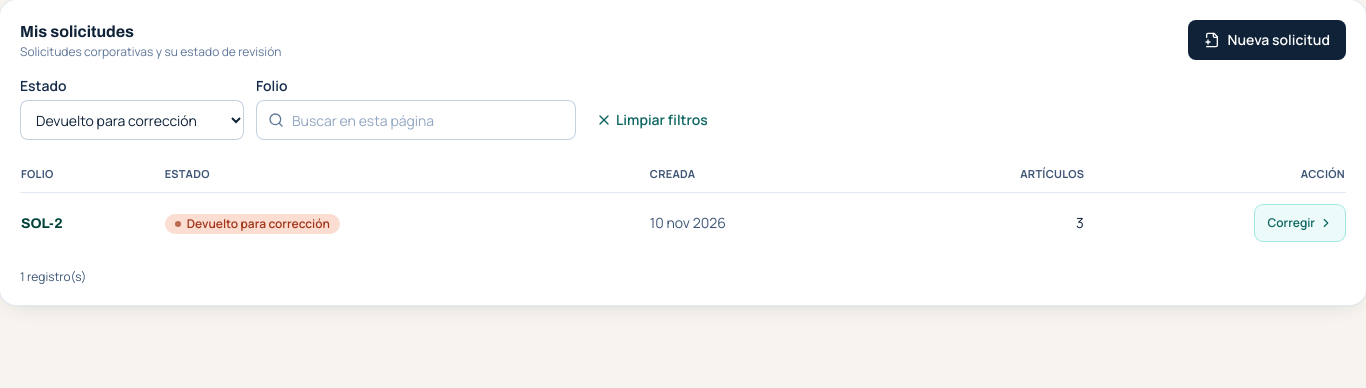
Test: listado de solicitudes › toma el estado de la URL, lo actualiza al cambiarlo y ofrece la acción según el estado
The image size is (1366, 388).
Select "Todas" in the dropdown labelled "Estado" at point(132, 120), box [20, 100, 244, 140]
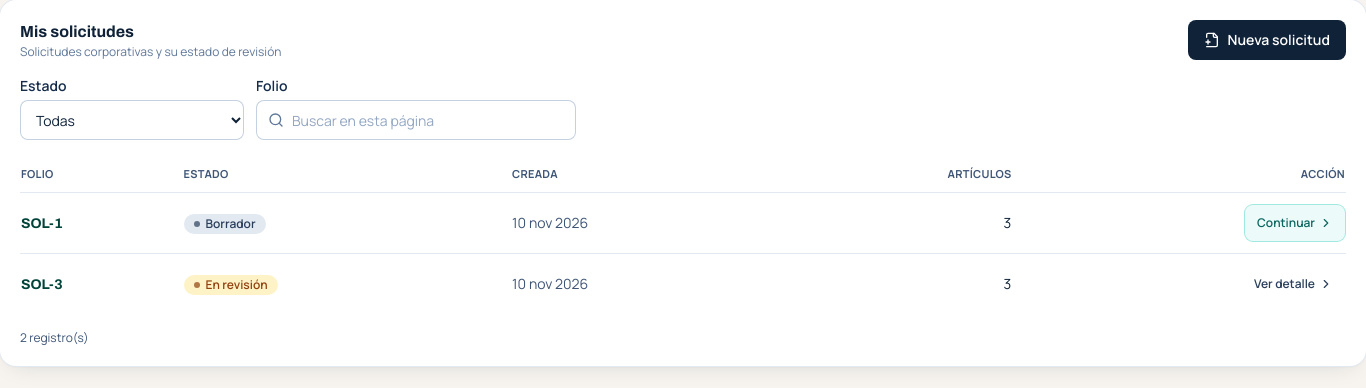
Check: the link with aria-label "Ver detalle: SOL-3" is shown, box [1254, 275, 1333, 292]
